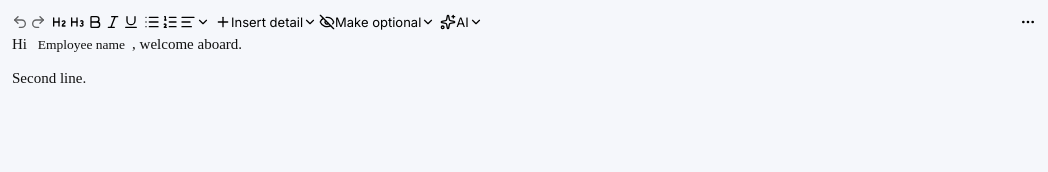
Test: asks for a custom instruction and shows AI errors
Expected: the text "Employee name" is shown, left=32, top=34, right=131, bottom=56
Click the button "AI" at [462, 22], box left=440, top=14, right=483, bottom=30
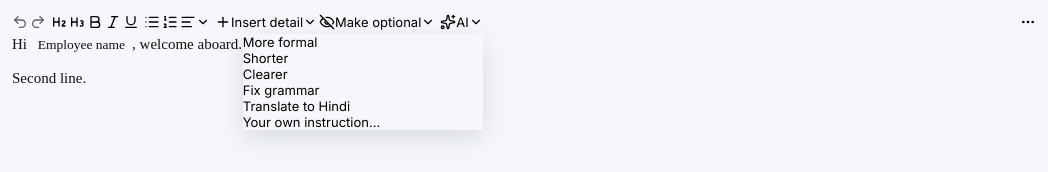
Click the menu item "Your own instruction…" at [363, 122], box left=243, top=114, right=483, bottom=130
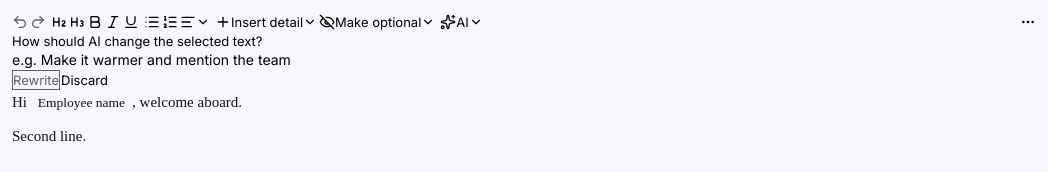
Type "Make it warmer" into the field labelled "How should AI change the selected text?" at [524, 60], box left=12, top=50, right=1036, bottom=70
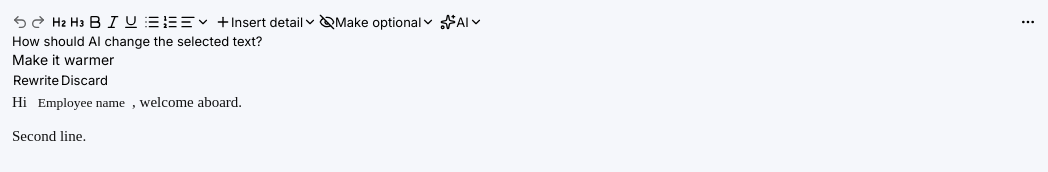
Click the button "Rewrite" at [36, 80], box left=12, top=70, right=60, bottom=90
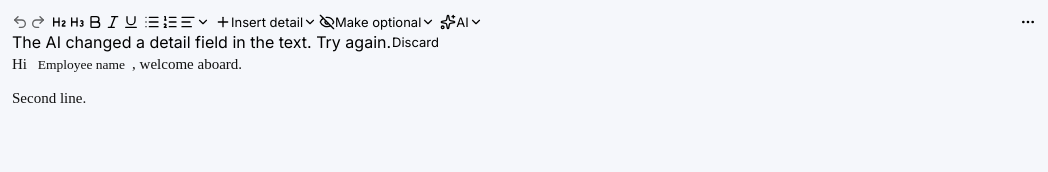
Result: the message reads "The AI changed a detail field in the text. Try again." at left=12, top=32, right=391, bottom=52
